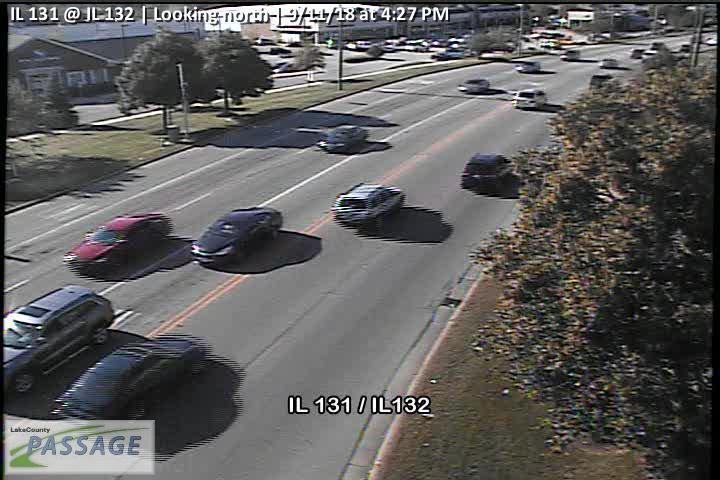SUV: (3, 284, 116, 395), (332, 182, 404, 228), (462, 152, 513, 193), (513, 89, 548, 109), (514, 60, 540, 74), (558, 50, 580, 61)
Sedan: (48, 333, 206, 429), (63, 211, 171, 277), (188, 206, 283, 268), (315, 126, 368, 153), (456, 79, 489, 93)
